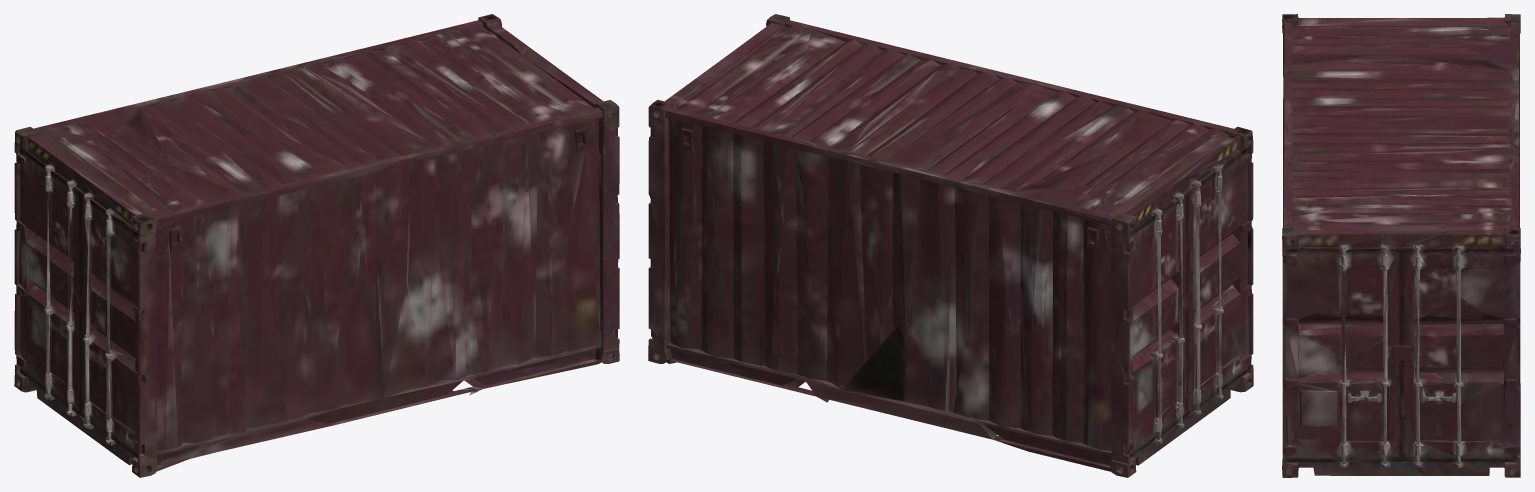
Rendered from container_red.glb.
The picture shows the model from 3 angles, left to right: view 1: azimuth 30°, elevation 25°; view 2: azimuth 150°, elevation 25°; view 3: azimuth 270°, elevation 25°; orthographic projection. The views are drawn at different scales.
Visible parts, largest first — view 1: Mesh_0; view 2: Mesh_0; view 3: Mesh_0.
Boxes of the visible parts, left/top/right/bottom form: Mesh_0: left=14, top=14, right=619, bottom=477; Mesh_0: left=648, top=14, right=1253, bottom=477; Mesh_0: left=1282, top=14, right=1520, bottom=477.
Bounding box in the file's own units: 1.9 × 0.9639 × 0.8548.
1 material, 1 textured.
